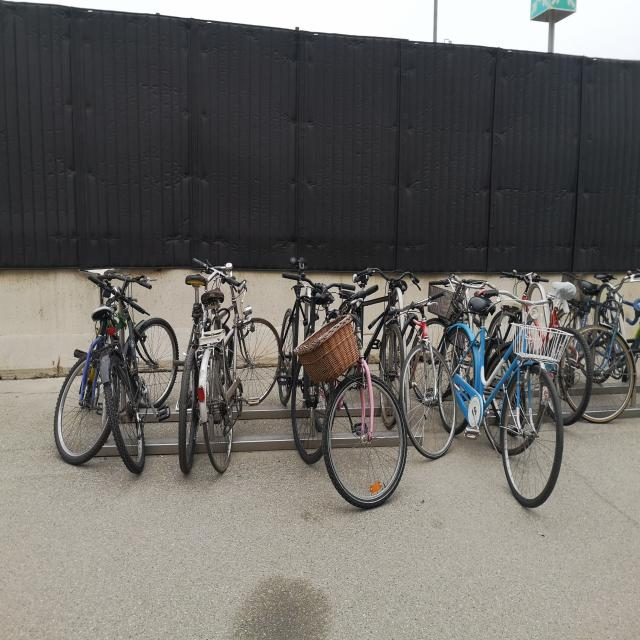Bicycle: (432, 267, 572, 524), (93, 276, 179, 499), (485, 254, 590, 430), (319, 272, 384, 550), (381, 294, 451, 515), (194, 276, 268, 482), (543, 282, 634, 439), (157, 248, 201, 507), (59, 265, 110, 487), (282, 263, 324, 501), (370, 255, 417, 412), (587, 260, 640, 384)
